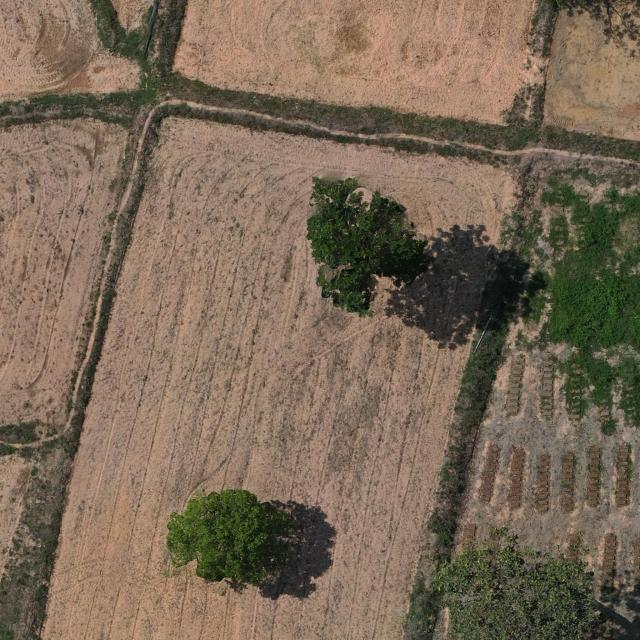Tree: (432, 525, 600, 640), (310, 175, 438, 320), (165, 488, 301, 585)
